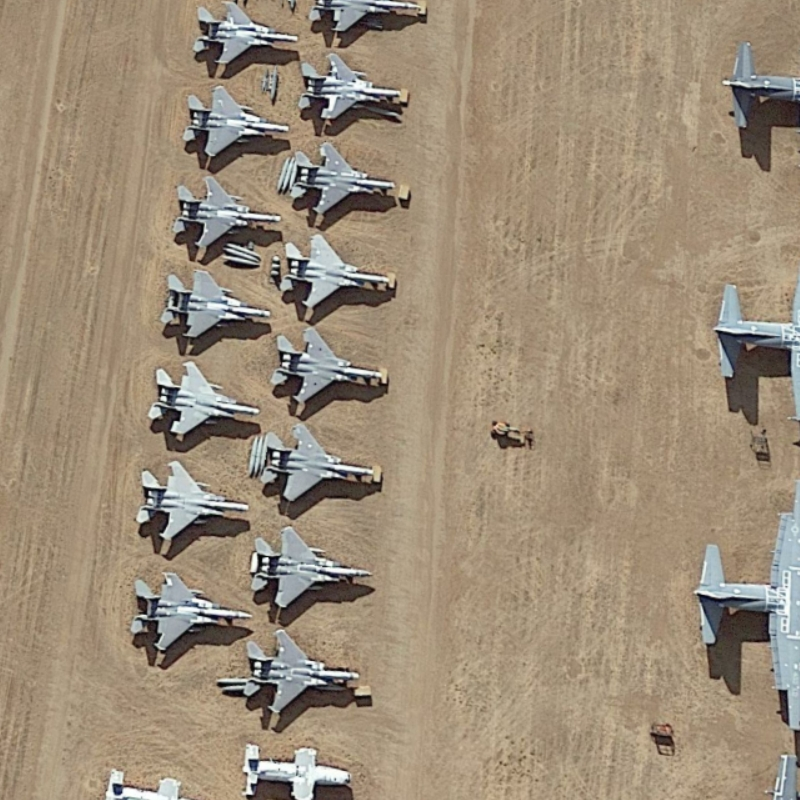A13: (238, 627, 362, 718), (246, 523, 374, 610), (126, 568, 256, 653), (256, 420, 378, 504), (132, 459, 252, 542), (269, 326, 386, 409), (277, 233, 394, 311), (159, 267, 272, 343), (172, 175, 286, 249), (289, 141, 399, 216), (181, 85, 290, 159), (146, 359, 262, 427), (295, 52, 402, 120), (192, 1, 300, 65)
